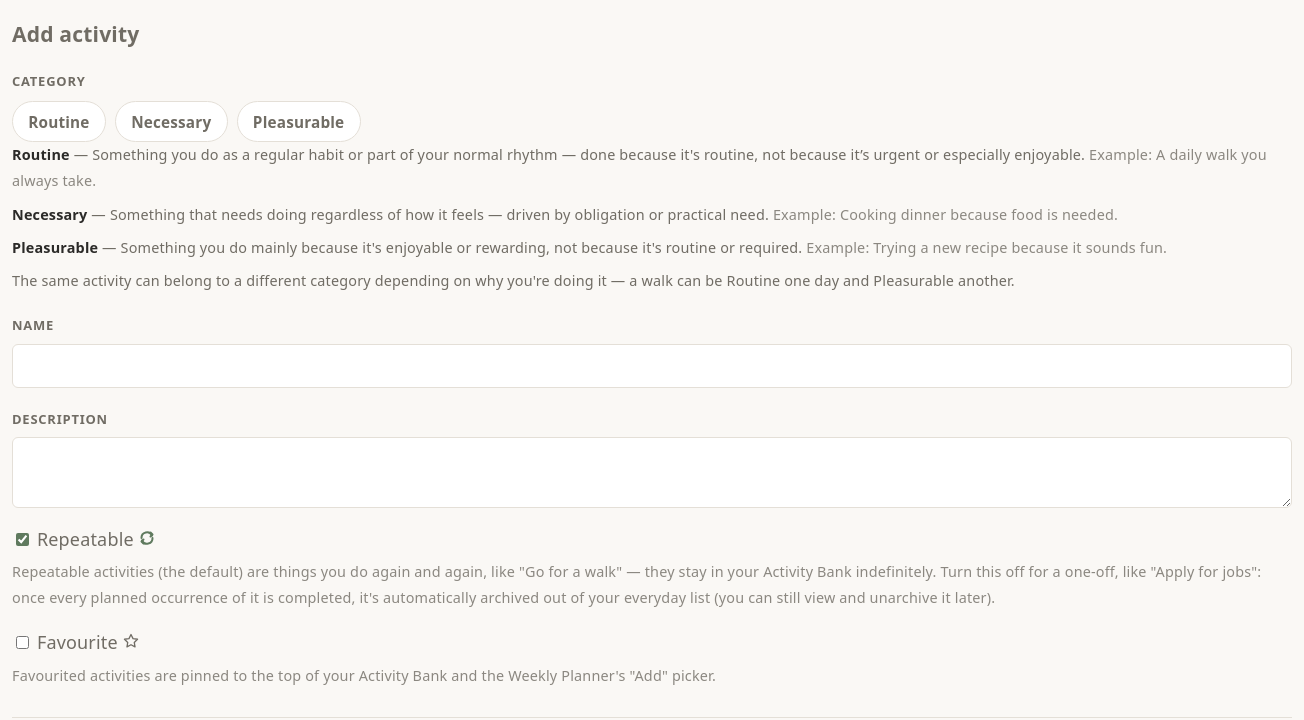
Scenario: ActivityForm › FRONTEND-020-AC-03: toggling the checkbox live-updates the icon in one interaction › shows, hides, then shows the icon again across two toggles
Expected: the picture named "repeatable" is shown, [139,530,155,546]
Click the checkbox labelled "Repeatable" at (22, 539), box [16,533,29,546]
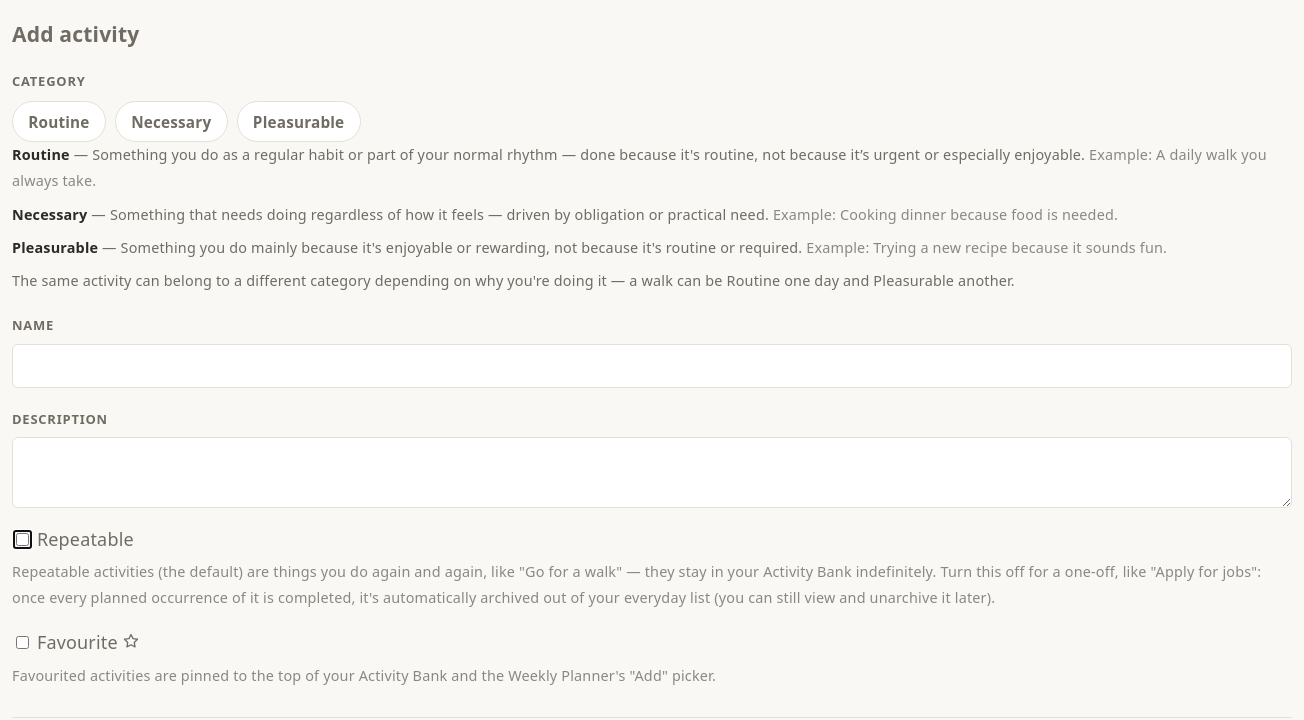
Click the checkbox labelled "Repeatable" at (22, 539), box [16,533,29,546]
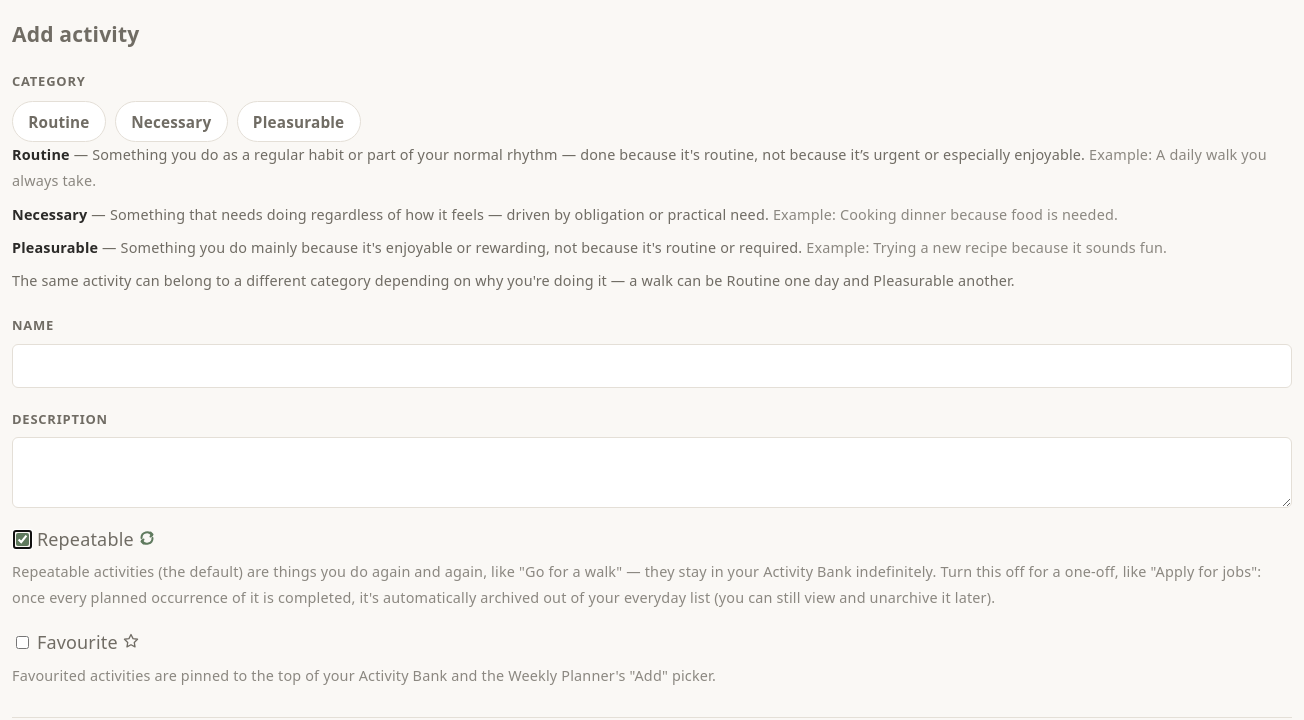
Result: the picture named "repeatable" is shown at [139,530,155,546]
